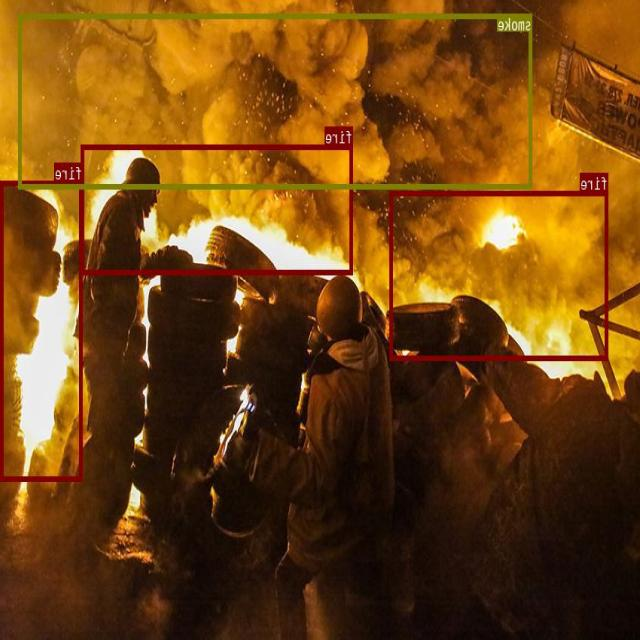fire: (390, 190, 609, 360), (82, 144, 354, 273), (2, 180, 84, 480)
smoke: (19, 12, 533, 188)
